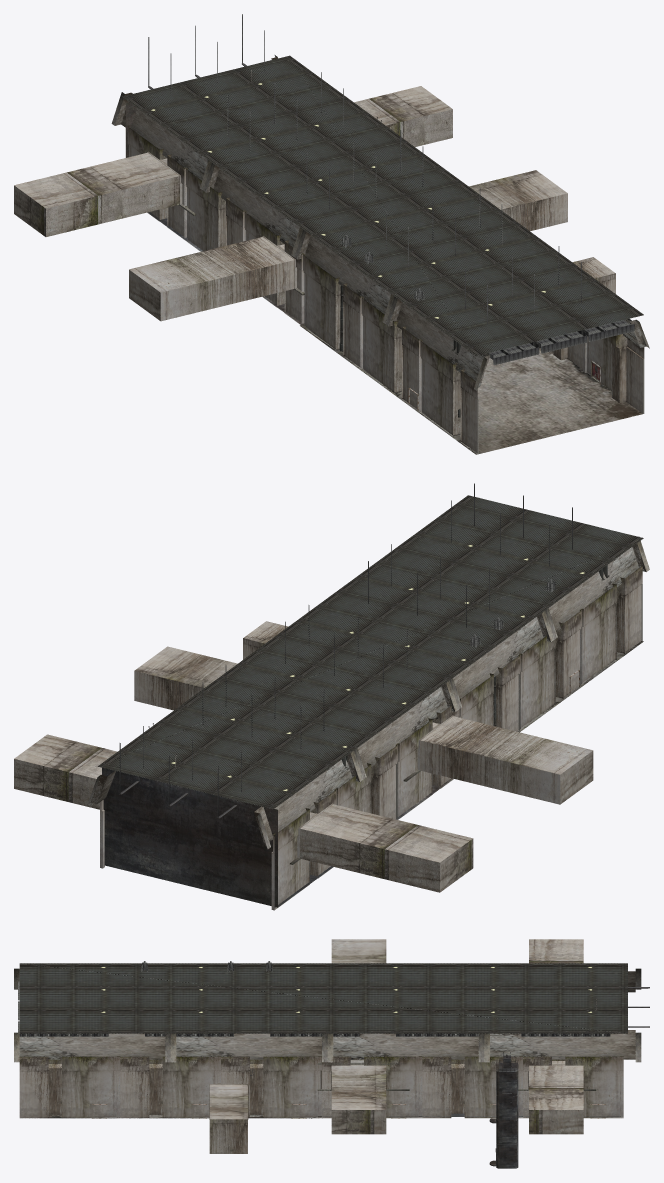
Rendered from old_factory.glb.
3 views of the same model, one above another, from view 1: azimuth 30°, elevation 25°; view 2: azimuth 150°, elevation 25°; view 3: azimuth 270°, elevation 25° (orthographic). The views are drawn at different scales.
Visible parts, largest first — view 1: Plane.005, Plane.004, Plane.001, Plane, Plane.012, Plane.006, Cube.020, Cube.001; view 2: Plane.005, Plane.004, Plane.014, Plane.012, Plane.001, Cube.020, Cube.001; view 3: Plane.005, Plane.001, Plane.012, Plane.004, Cube.001, factory_tube_03.001, Plane.006, Plane.
Part boxes in pixels (x1,y1,x2,y2): Plane.005: (122,55,643,355); Plane.004: (14,125,478,454); Plane.001: (354,86,644,413); Plane: (300,325,642,454); Plane.012: (111,55,649,390); Plane.006: (488,318,634,365); Cube.020: (148,14,581,325); Cube.001: (572,257,615,293); Plane.005: (98,495,643,809); Plane.004: (271,566,642,910); Plane.014: (102,768,277,907); Plane.012: (87,536,649,848); Plane.001: (14,646,237,868); Cube.020: (119,483,572,818); Cube.001: (243,621,287,659); Plane.005: (19,963,627,1033); Plane.001: (19,1056,623,1134); Plane.012: (14,968,641,1062); Plane.004: (331,939,583,963); Cube.001: (209,1084,247,1153); factory_tube_03.001: (489,1052,518,1168); Plane.006: (18,981,610,1036); Plane: (29,1115,322,1118).
Size of the model in its own units: 20.7 by 8.97 by 32.62.
Materials: 11 (10 with a texture image).
